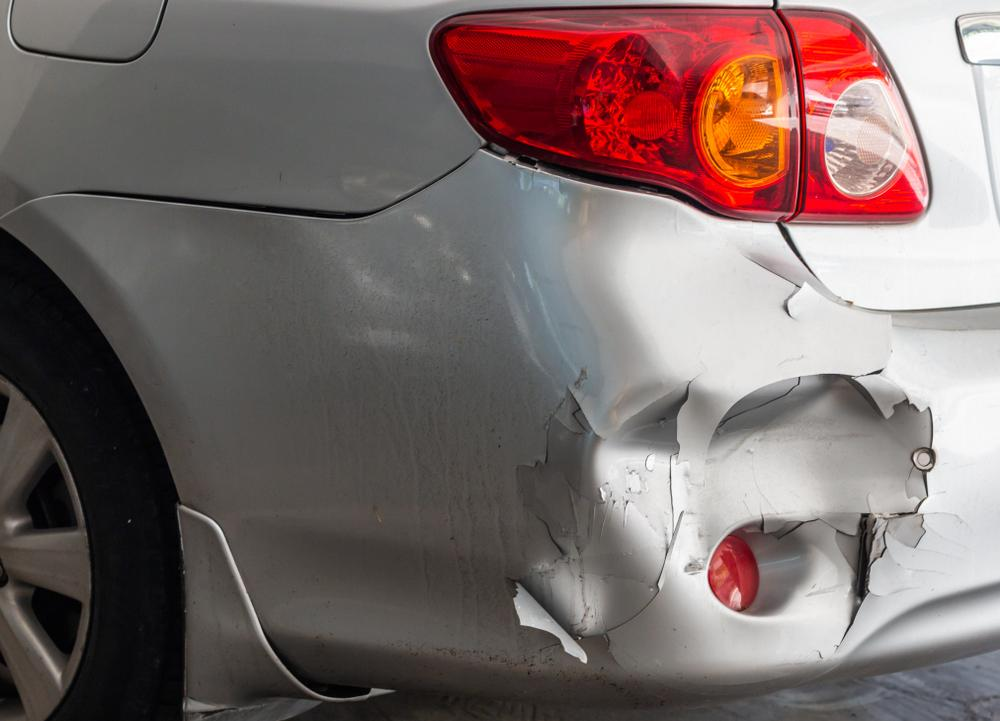crack: (838, 520, 874, 653)
dent: (520, 218, 934, 623)
